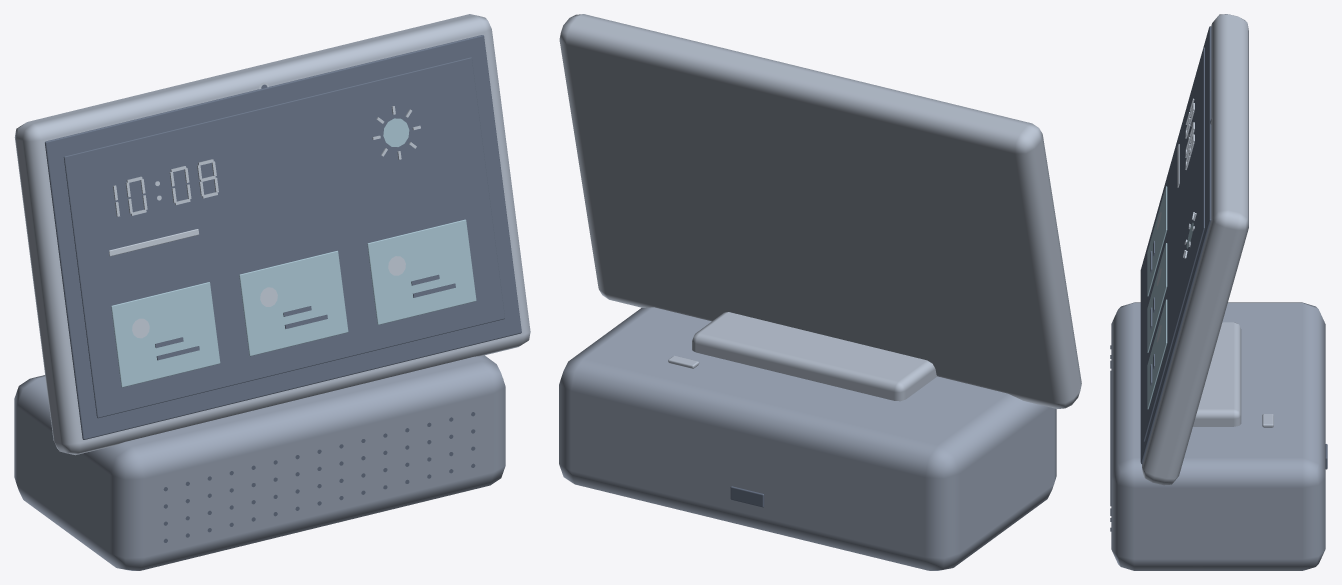
File: 智慧屏-lite.glb
3 renders of one model, left to right at view 1: azimuth 30°, elevation 25°; view 2: azimuth 150°, elevation 25°; view 3: azimuth 270°, elevation 25°, orthographic. The views are drawn at different scales.
Parts seen in each view (by area): view 1: smart-display-screen, smart-display-speaker, smart-display-body, smart-display-ui, smart-display-icon; view 2: smart-display-body, smart-display-speaker; view 3: smart-display-speaker, smart-display-body, smart-display-screen, smart-display-ui, smart-display-icon.
Boxes of the visible parts, <box> form: smart-display-screen: <box>45,35,521,542</box>; smart-display-speaker: <box>14,355,505,570</box>; smart-display-body: <box>14,14,530,455</box>; smart-display-ui: <box>111,118,476,387</box>; smart-display-icon: <box>109,82,420,338</box>; smart-display-body: <box>559,14,1081,408</box>; smart-display-speaker: <box>559,307,1056,570</box>; smart-display-speaker: <box>1111,302,1325,570</box>; smart-display-body: <box>1142,14,1273,485</box>; smart-display-screen: <box>1110,26,1327,531</box>; smart-display-ui: <box>1147,186,1193,409</box>; smart-display-icon: <box>1156,98,1212,342</box>.
Size of the model in its own units: 0.256 by 0.2217 by 0.1136.
